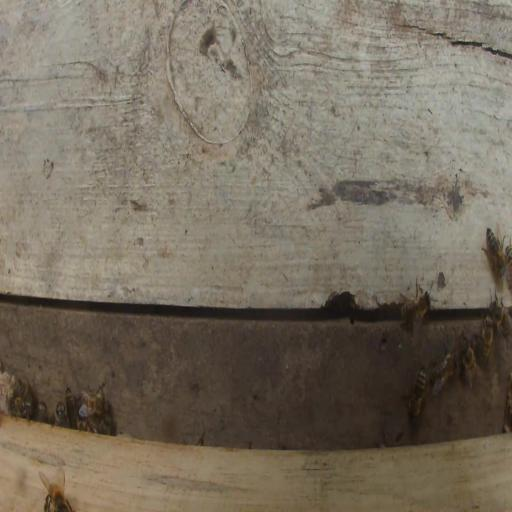nonpollenbee: (399, 277, 438, 347), (39, 465, 74, 512), (482, 226, 507, 279), (430, 351, 457, 397), (408, 364, 426, 423), (489, 298, 512, 335), (78, 390, 109, 417), (477, 317, 493, 368), (461, 339, 477, 389), (11, 395, 38, 416), (67, 386, 78, 429), (54, 402, 69, 426), (98, 412, 112, 435), (505, 241, 512, 285), (38, 401, 48, 422)
